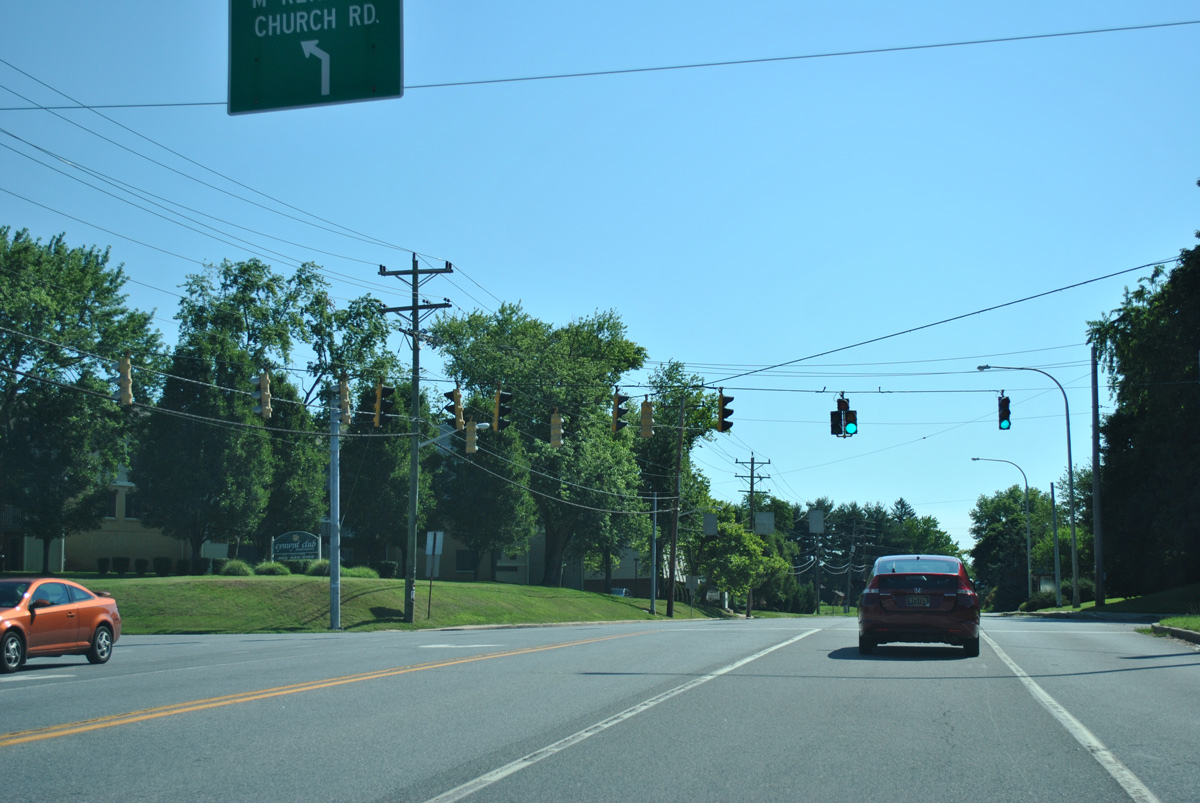traffic_light: (828, 397, 859, 437), (996, 394, 1013, 433)
